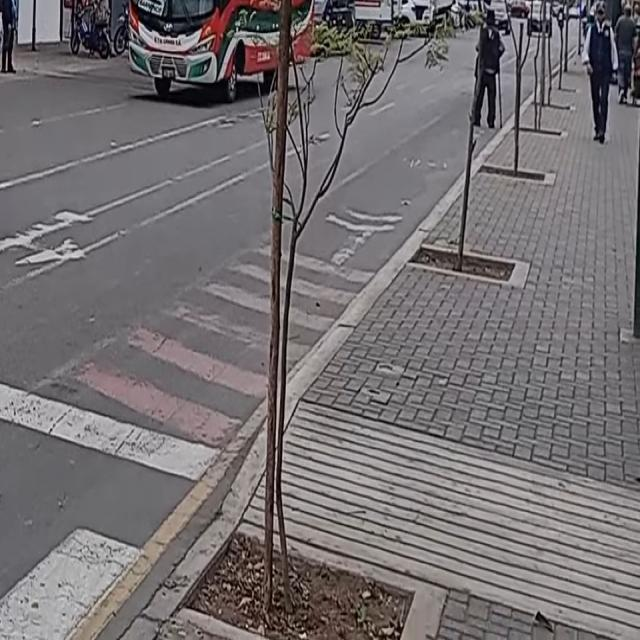bus: (121, 0, 319, 96)
car: (526, 0, 554, 36), (487, 0, 510, 32)
